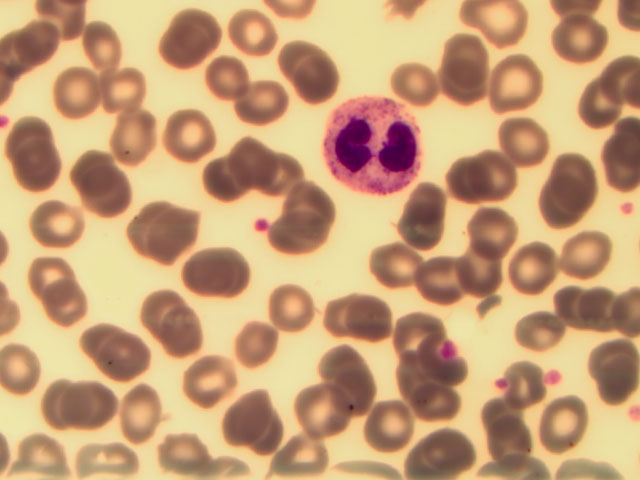Platelets: (249, 215, 271, 232), (442, 337, 458, 355), (618, 204, 635, 217), (549, 368, 561, 386), (492, 378, 509, 390), (1, 115, 9, 128)
RBC: (239, 75, 293, 137), (166, 12, 219, 68), (230, 9, 283, 65), (287, 47, 340, 103), (390, 55, 443, 111), (441, 26, 494, 82), (434, 57, 487, 113), (494, 56, 547, 112), (497, 110, 550, 166), (473, 147, 526, 203), (439, 156, 492, 212), (400, 185, 453, 241), (369, 240, 422, 296), (414, 255, 467, 311), (449, 247, 502, 303), (473, 204, 526, 260), (505, 244, 558, 300), (554, 227, 607, 283), (535, 184, 588, 240), (549, 151, 602, 207), (575, 78, 628, 134), (557, 13, 610, 69), (545, 275, 598, 331), (512, 305, 565, 361), (587, 334, 640, 390), (547, 393, 600, 449), (488, 419, 541, 475), (421, 423, 474, 479), (358, 398, 411, 454), (407, 378, 460, 434), (377, 350, 430, 406), (391, 296, 444, 352), (348, 289, 401, 345), (313, 288, 366, 344), (266, 280, 319, 336), (239, 315, 292, 371), (217, 391, 270, 447), (287, 384, 340, 440), (323, 339, 376, 395), (271, 435, 333, 480), (75, 435, 137, 480), (158, 435, 220, 480), (77, 24, 123, 68), (58, 69, 104, 113), (20, 149, 66, 193), (9, 112, 55, 156), (109, 117, 155, 161), (102, 67, 148, 111), (163, 112, 209, 156), (88, 174, 134, 218), (70, 149, 116, 193), (37, 200, 83, 244), (23, 252, 69, 296), (50, 284, 96, 328), (72, 321, 118, 365), (98, 334, 144, 378), (71, 382, 117, 426), (32, 381, 78, 425), (3, 346, 49, 390), (112, 390, 158, 434), (189, 361, 235, 405), (162, 315, 208, 359), (140, 289, 186, 333), (201, 252, 247, 296), (154, 214, 200, 258), (124, 202, 170, 246), (194, 152, 240, 196), (238, 137, 284, 181), (287, 178, 333, 222), (271, 214, 317, 258), (259, 177, 305, 221), (17, 34, 49, 63)
WBC: (320, 95, 434, 197)
